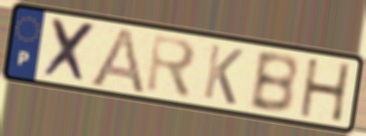A: (85, 25, 148, 97)
B: (246, 50, 300, 116)
H: (298, 57, 354, 125)
K: (200, 41, 246, 108)
R: (143, 32, 200, 103)
X: (41, 15, 100, 86)
